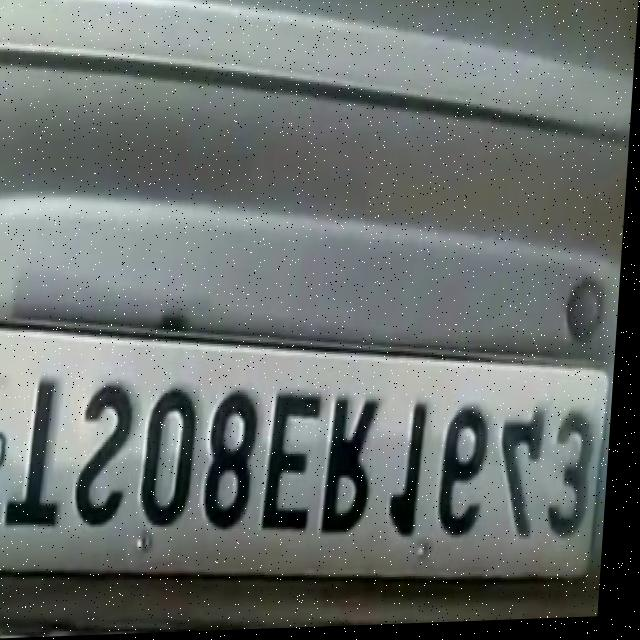plate: (0, 302, 622, 605)
